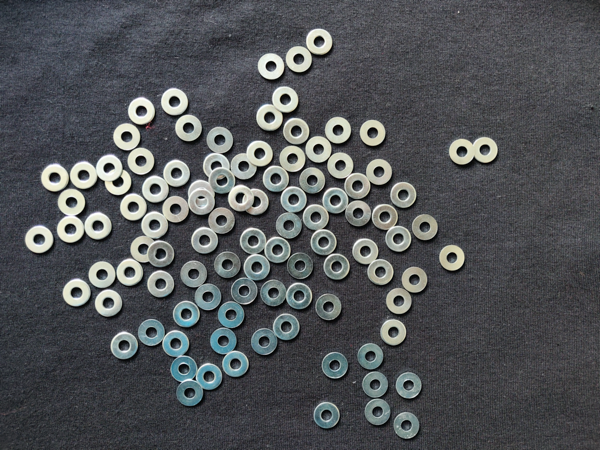circle: (312, 401, 342, 431), (40, 163, 69, 193), (393, 412, 422, 442), (383, 287, 413, 316), (62, 279, 91, 308), (88, 261, 117, 290), (25, 225, 53, 255), (56, 215, 84, 245), (169, 355, 197, 385), (360, 119, 388, 149), (439, 243, 467, 273), (70, 160, 98, 189), (95, 290, 123, 319), (110, 332, 138, 361), (174, 114, 203, 142), (322, 351, 351, 379), (396, 372, 424, 401), (411, 214, 439, 243), (473, 135, 500, 165), (104, 169, 132, 197), (325, 116, 353, 144), (364, 399, 392, 427), (366, 259, 394, 287), (391, 182, 419, 210), (96, 153, 123, 182), (128, 147, 155, 176), (231, 151, 258, 180), (255, 104, 284, 131), (251, 328, 278, 357), (324, 253, 351, 282), (316, 293, 343, 322), (56, 190, 86, 216), (85, 213, 112, 241), (128, 98, 156, 125), (120, 194, 148, 221), (148, 271, 175, 299), (162, 88, 189, 116), (188, 188, 216, 215), (286, 46, 313, 74), (306, 27, 333, 55), (287, 252, 314, 280), (323, 187, 350, 215), (352, 237, 379, 265), (448, 139, 475, 167), (113, 124, 142, 150), (284, 117, 310, 146), (131, 236, 158, 263), (219, 302, 246, 329), (209, 208, 236, 235), (257, 52, 284, 79), (243, 189, 270, 216), (222, 351, 249, 378), (231, 278, 258, 305), (273, 314, 300, 341), (287, 283, 314, 310), (356, 344, 383, 371), (380, 321, 408, 347), (142, 211, 168, 239), (175, 381, 203, 407), (195, 284, 221, 312), (328, 152, 354, 180), (363, 371, 389, 399), (117, 259, 142, 288), (366, 160, 395, 185), (143, 176, 169, 203), (138, 320, 164, 347), (206, 127, 233, 153), (179, 261, 206, 287), (196, 364, 222, 391), (214, 252, 241, 278), (247, 140, 273, 167), (239, 228, 266, 254), (281, 186, 307, 213), (263, 166, 290, 192), (386, 225, 412, 252), (163, 196, 188, 224), (188, 181, 216, 206), (306, 135, 331, 163), (261, 278, 285, 307), (163, 161, 189, 187), (210, 328, 236, 354), (345, 173, 371, 199), (273, 87, 300, 112), (244, 256, 271, 281), (265, 237, 290, 264), (311, 230, 336, 257), (401, 268, 428, 293), (304, 204, 328, 232), (148, 242, 174, 267), (192, 229, 218, 254), (164, 331, 189, 357), (228, 186, 254, 211), (279, 147, 305, 172), (300, 167, 325, 193), (345, 202, 371, 227), (203, 154, 230, 178), (174, 303, 199, 328), (277, 212, 301, 238), (373, 205, 399, 229), (210, 169, 235, 193)
